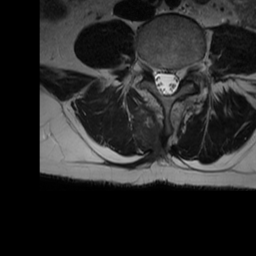CCS_normal: (162, 59, 170, 102)
LFS_normal: (179, 56, 188, 83)
LLS_normal: (170, 59, 179, 96)
RFS_normal: (142, 52, 152, 80)
RLS_normal: (152, 59, 162, 95)
